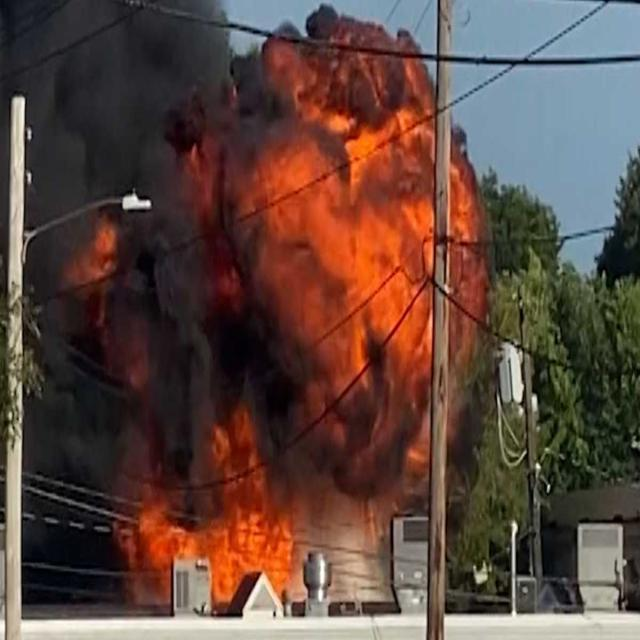fire: (73, 61, 450, 580)
